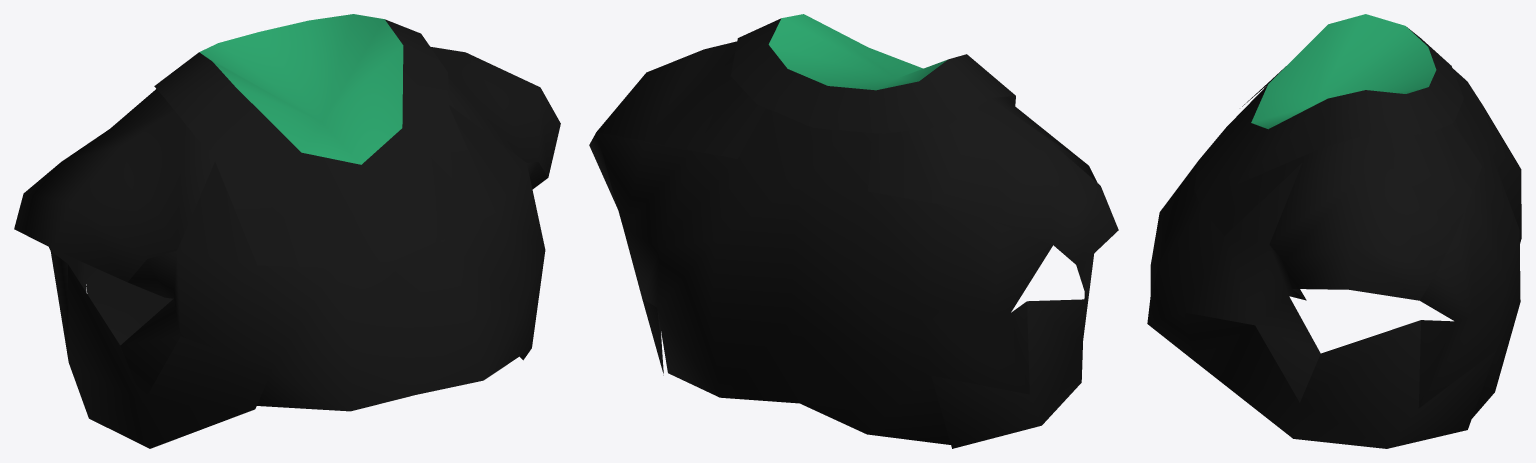
Rendered from spine2.glb.
3 views of the same model, side by side, from view 1: azimuth 30°, elevation 25°; view 2: azimuth 150°, elevation 25°; view 3: azimuth 270°, elevation 25° (orthographic). The views are drawn at different scales.
Parts seen in each view (by area): view 1: polo-black_SPINE2; view 2: polo-black_SPINE2; view 3: polo-black_SPINE2.
Boxes of the visible parts, x1,y1,x2,y2 form: polo-black_SPINE2: [14, 14, 560, 448]; polo-black_SPINE2: [589, 14, 1118, 448]; polo-black_SPINE2: [1147, 14, 1521, 448].
Size of the model in its own units: 0.4737 by 0.3067 by 0.333.
Materials: 1 (1 with a texture image).
